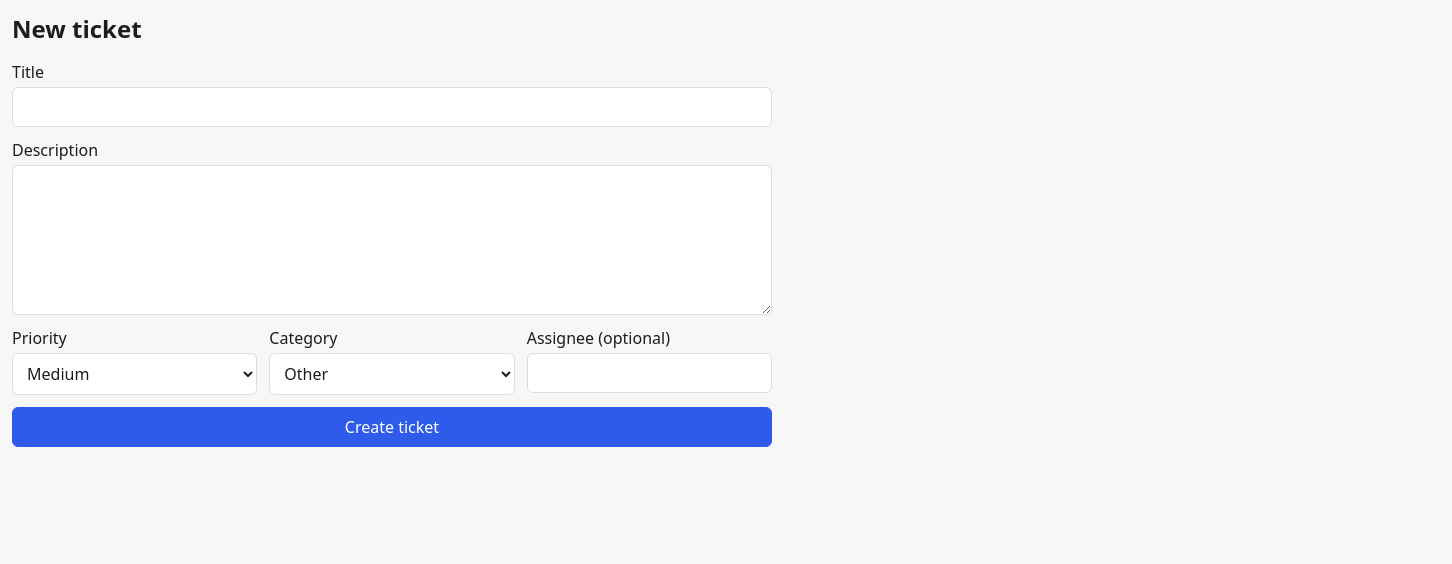
Test: CreateTicketPage › shows server field errors next to their fields (AC-12, AC-13)
Click the button "Create ticket". click: click(392, 427)
box: [12,407,772,447]
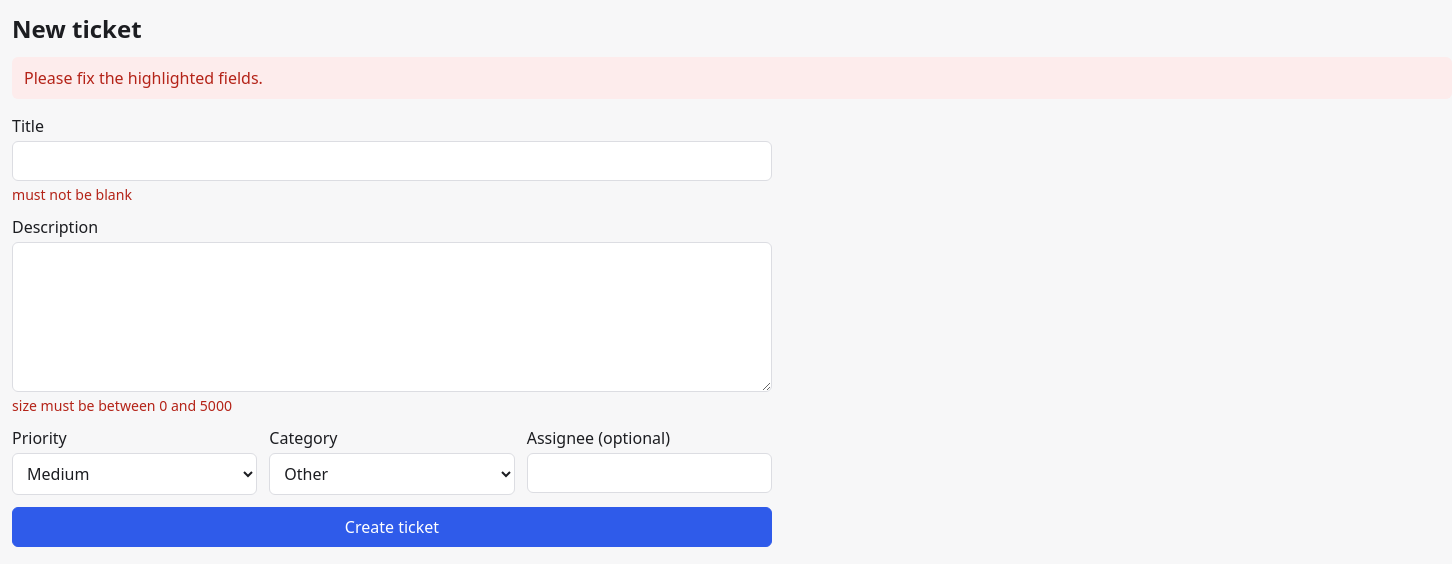
Expected: the message reads "Please fix the highlighted fields.", [24,67,263,89]
Expected: the text "must not be blank" is shown, [12,185,132,204]
Expected: the text "size must be between 0 and 5000" is shown, [12,396,232,415]
